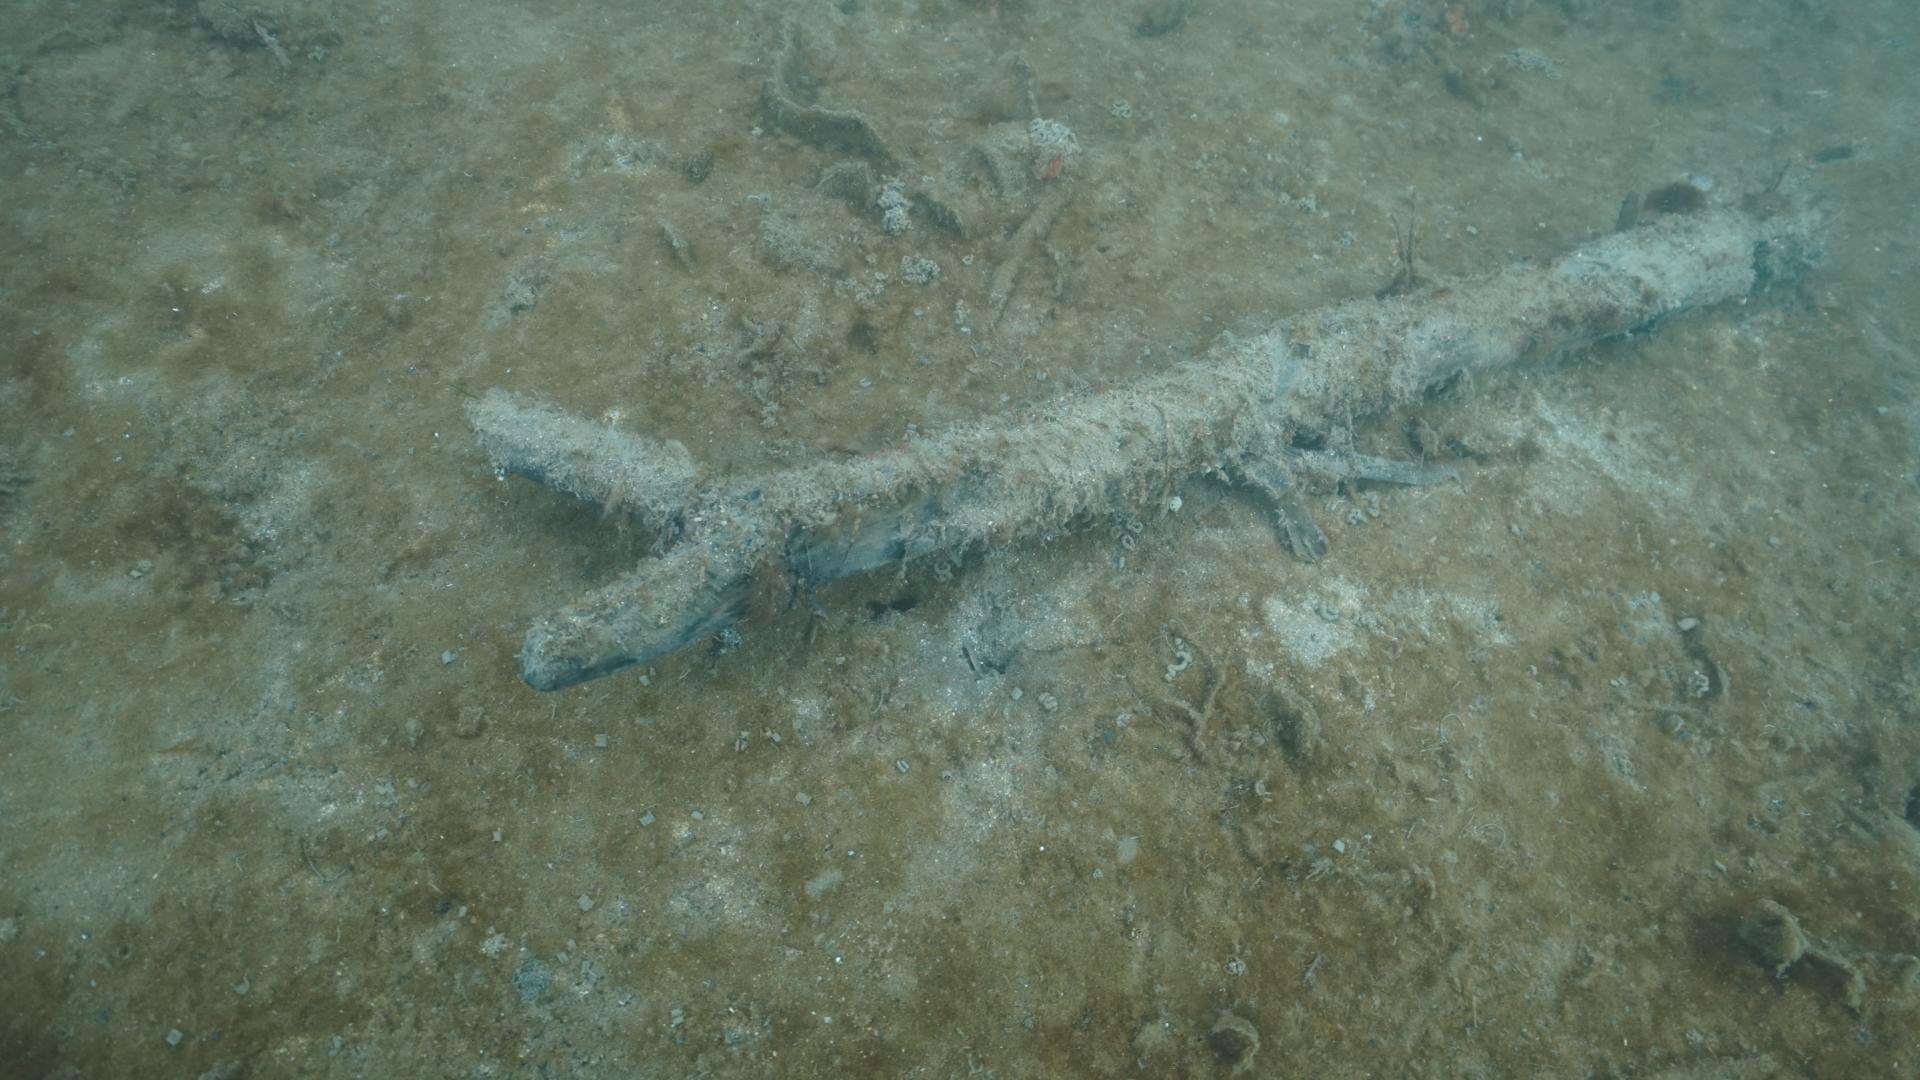wood: (468, 185, 1821, 688)
